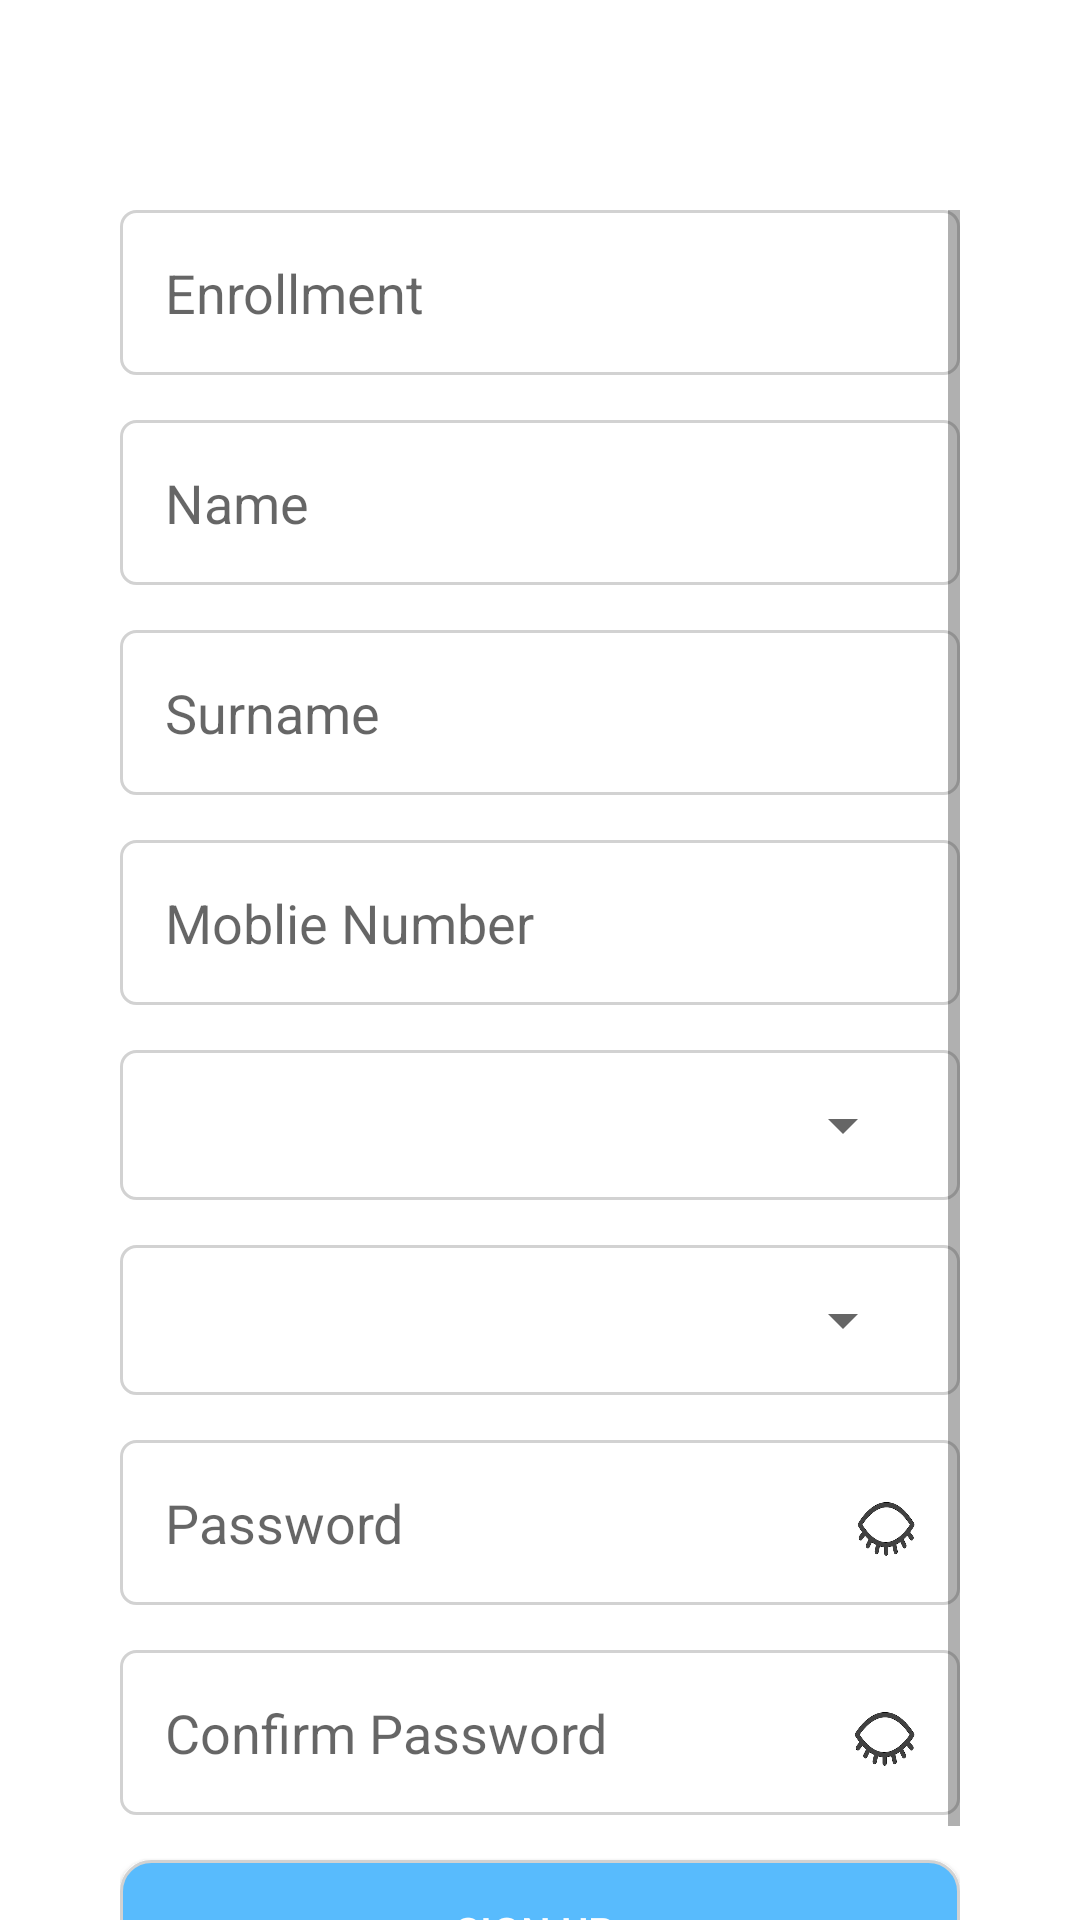

Screen size 1080 x 1920. Icon name, then its center in pixels as point (x, y):
eyesclose: point (886, 1529), point (885, 1739)
